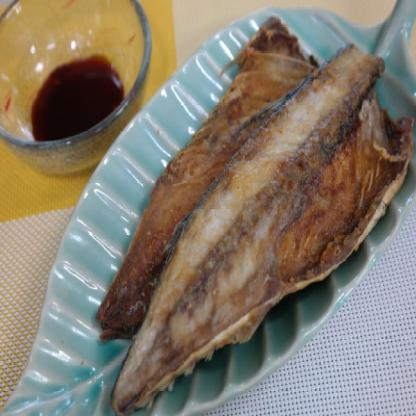Peixe: (99, 17, 407, 396)
